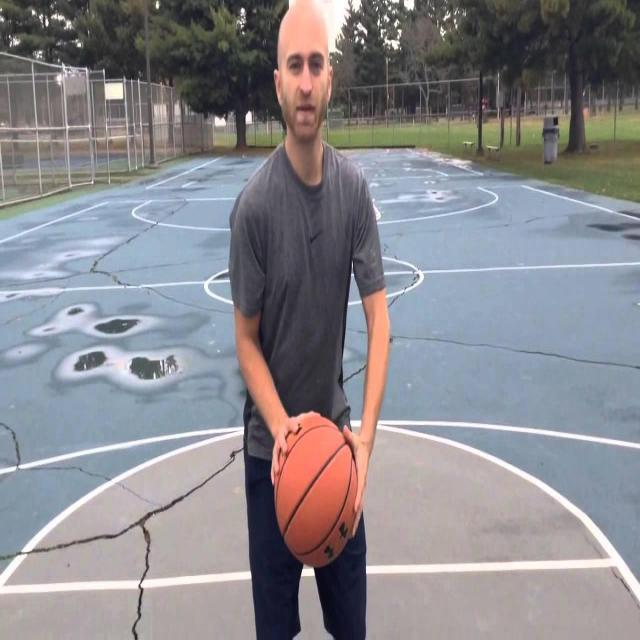Basketball: (275, 416, 358, 567)
